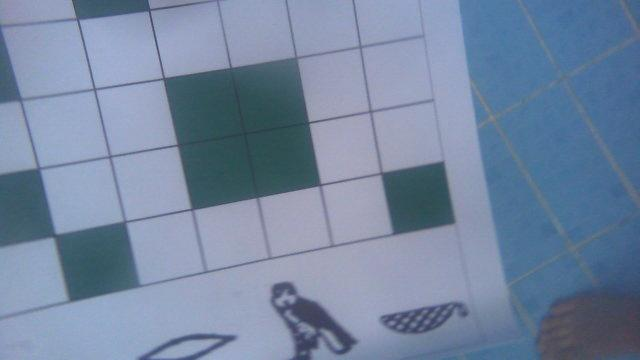Basket: (369, 295, 479, 338)
Mouth: (136, 324, 241, 360)
Owl: (261, 278, 359, 360)
